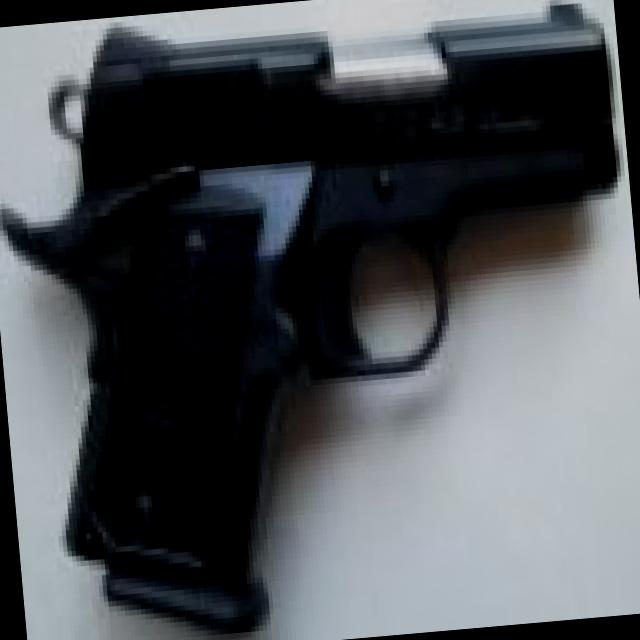handgun: (18, 0, 639, 626)
